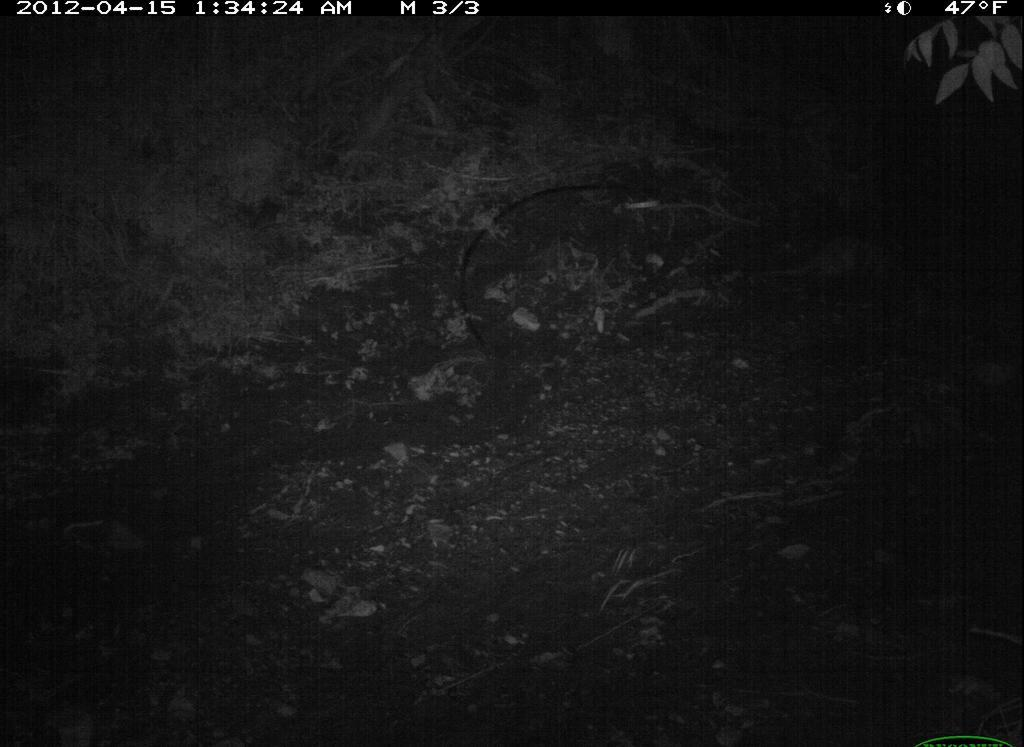opossum: (740, 231, 911, 304)
